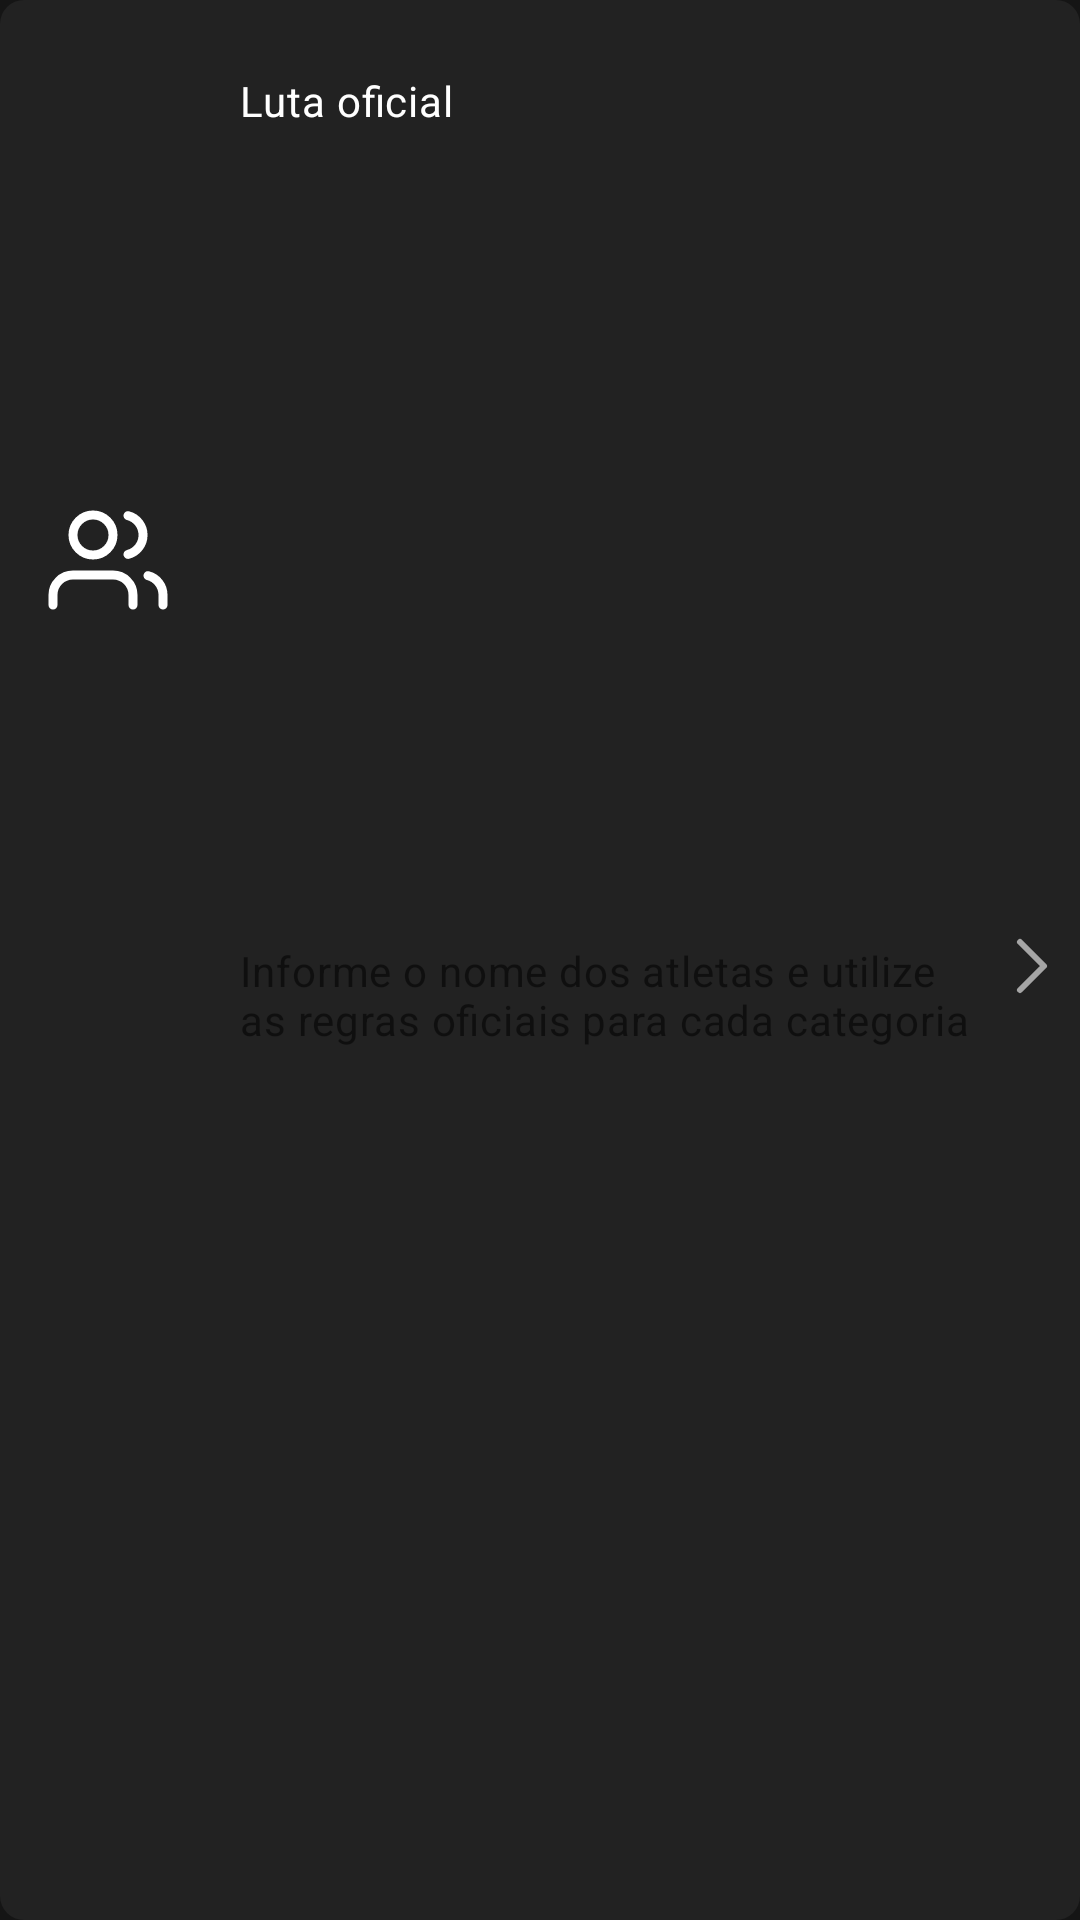

Point at icon controls on the screen. Image size 1080px x 1920px, points as [x,y].
next: [1032,966]
